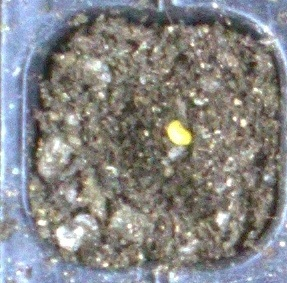chilli seed: (165, 119, 193, 146)
